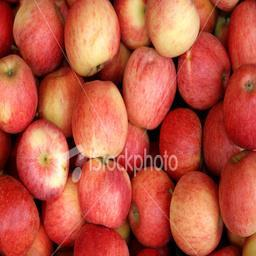apple: (11, 117, 70, 202), (119, 47, 177, 128), (169, 170, 224, 255), (71, 79, 128, 160), (62, 1, 121, 78), (10, 1, 68, 77), (73, 156, 131, 230), (176, 31, 230, 110), (127, 166, 173, 249), (136, 1, 201, 57), (37, 65, 86, 137), (42, 175, 87, 247), (219, 149, 256, 236), (1, 173, 39, 256), (159, 107, 202, 177), (1, 54, 38, 135), (225, 61, 256, 150), (204, 103, 241, 173), (73, 223, 129, 256), (113, 1, 149, 49), (191, 1, 217, 34)
